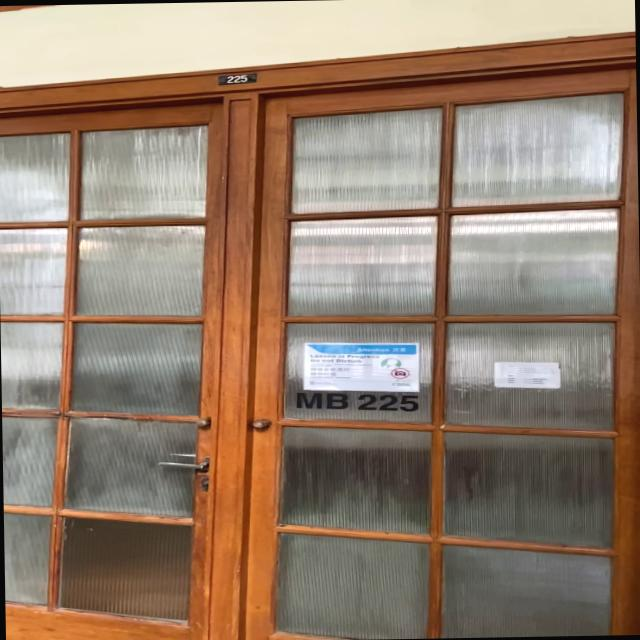room225: (214, 69, 260, 86)
room225Window: (291, 388, 422, 415)
